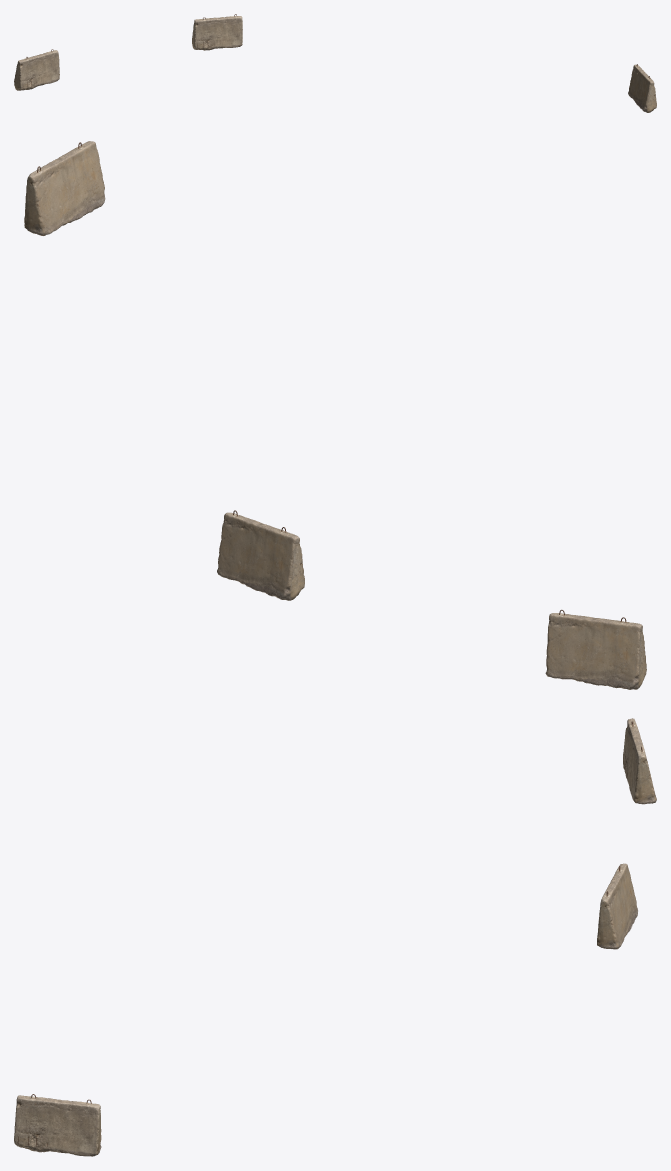
File: SM_PH_concrete_road_barrier_02.fbx
The picture shows the model from 3 angles, top to bottom: view 1: azimuth 30°, elevation 25°; view 2: azimuth 150°, elevation 25°; view 3: azimuth 270°, elevation 25°; orthographic projection. The views are drawn at different scales.
Visible parts, largest first — view 1: SM_PH_concrete_road_barrier_02; view 2: SM_PH_concrete_road_barrier_02; view 3: SM_PH_concrete_road_barrier_02.
Boxes of the visible parts, box(x1,y1,x2,y2) form: SM_PH_concrete_road_barrier_02: box(14, 14, 656, 112); SM_PH_concrete_road_barrier_02: box(24, 141, 646, 689); SM_PH_concrete_road_barrier_02: box(14, 718, 656, 1156).
Bounding box in the file's own units: 16.62 × 11.61 × 1.11.
1 material, 1 textured.
